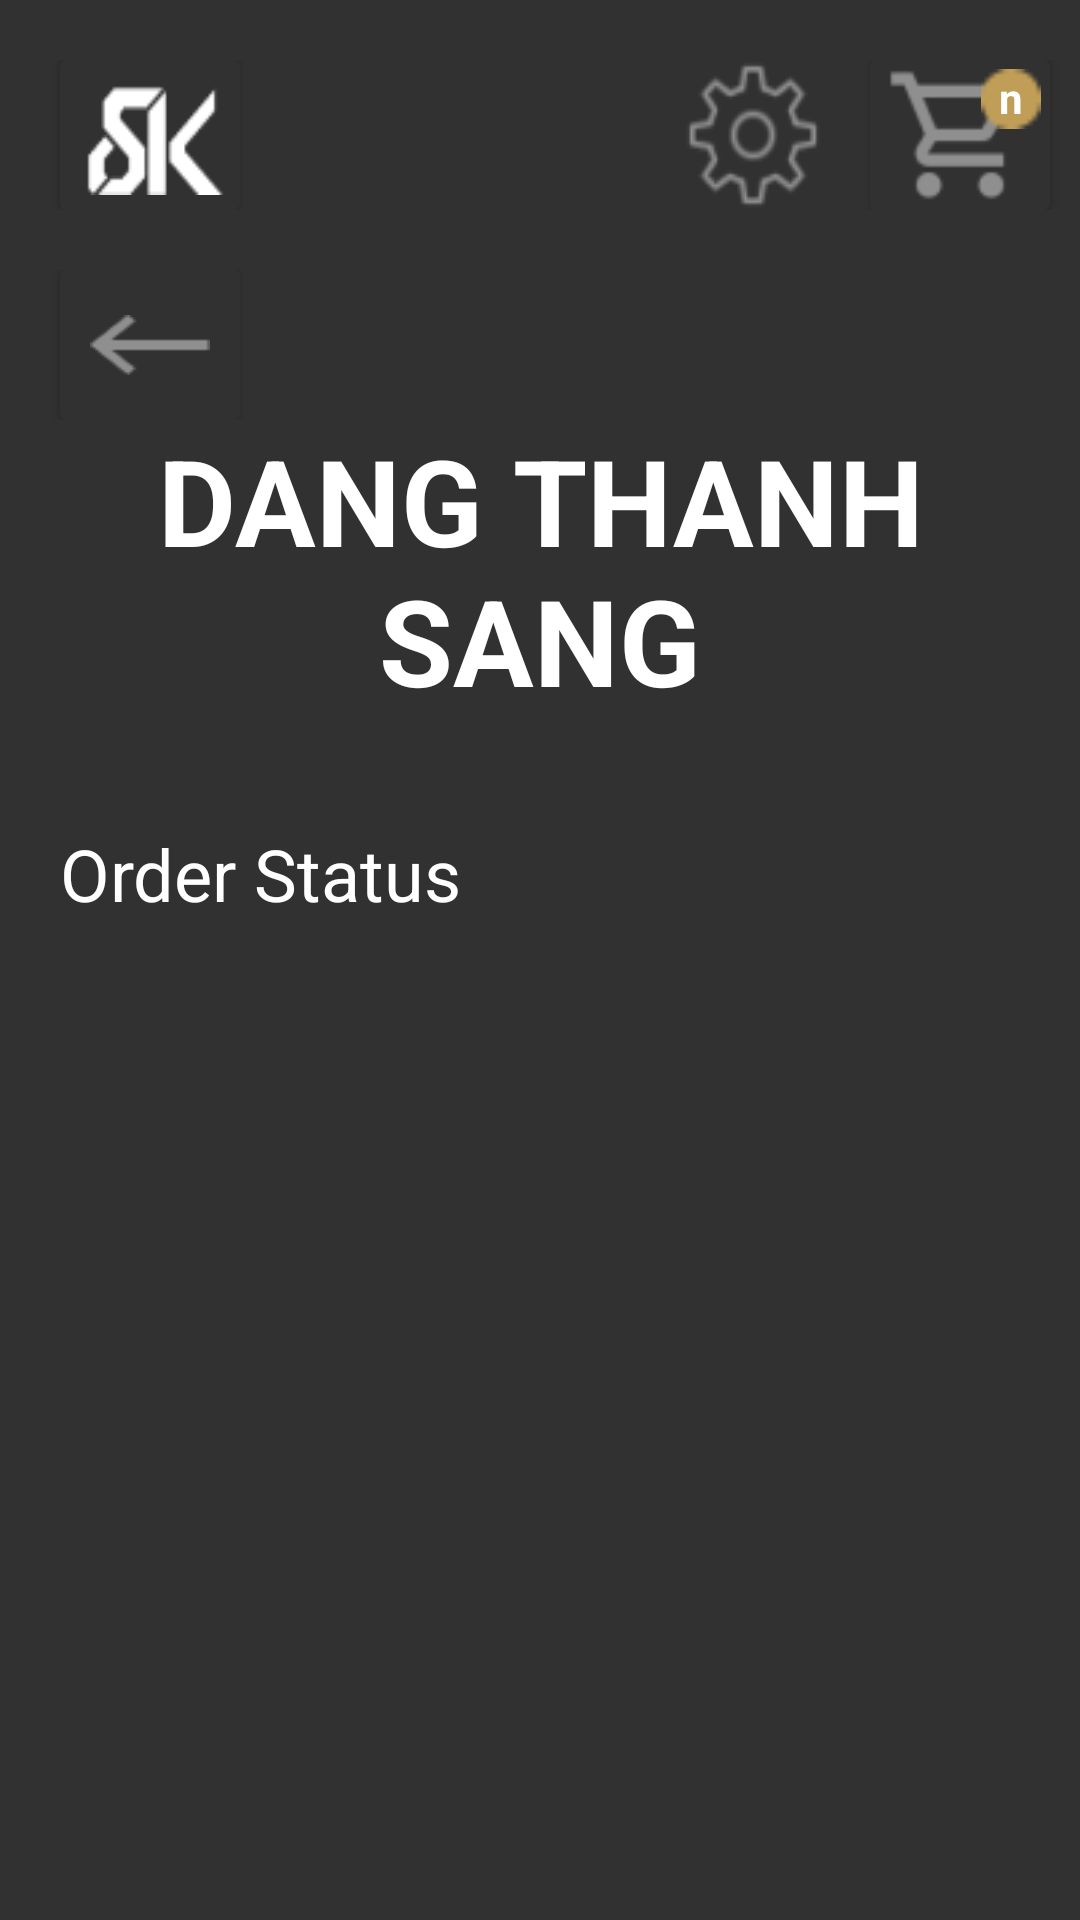

Icons on this 1080 × 1920 Android screen, each with its box as (x1, y1, x2, y2):
setting: (689, 65, 817, 205)
shopingcart: (890, 69, 1035, 199)
turnback: (90, 315, 210, 375)
